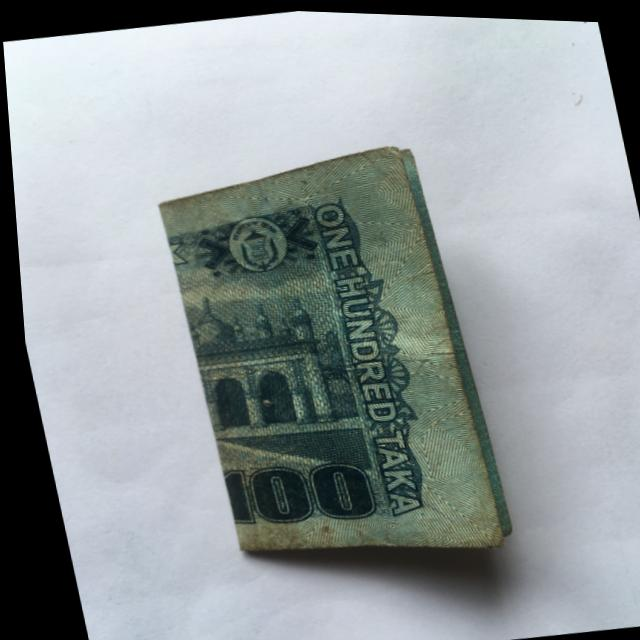Taka: (144, 129, 513, 591)
